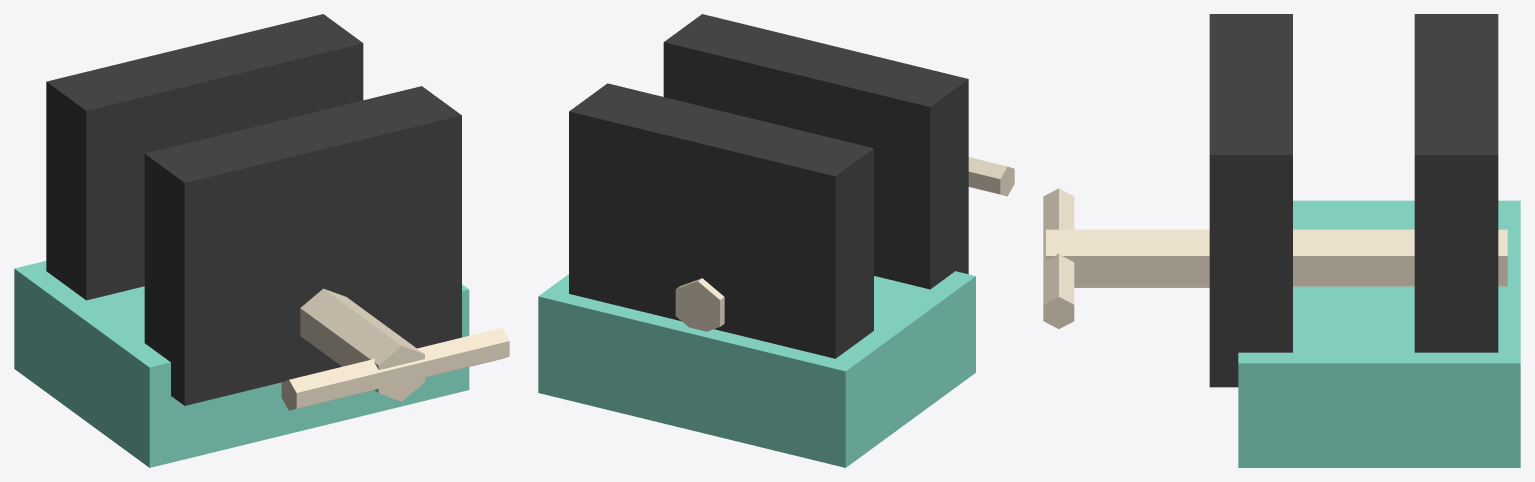
3 renders of one model, left to right at view 1: azimuth 30°, elevation 25°; view 2: azimuth 150°, elevation 25°; view 3: azimuth 270°, elevation 25°, orthographic. The views are drawn at different scales.
Visible parts, largest first — view 1: Moving jaw, Fixed jaw, Base, Handle, Lead screw; view 2: Fixed jaw, Base, Moving jaw, Lead screw, Handle; view 3: Base, Moving jaw, Fixed jaw, Lead screw, Handle.
Boxes of the visible parts, <box> form: Moving jaw: <box>144,86,461,405</box>; Fixed jaw: <box>46,14,363,300</box>; Base: <box>14,261,469,467</box>; Handle: <box>281,328,509,410</box>; Lead screw: <box>300,288,424,401</box>; Fixed jaw: <box>569,83,873,358</box>; Base: <box>538,271,975,467</box>; Moving jaw: <box>663,14,968,289</box>; Lead screw: <box>675,278,724,331</box>; Handle: <box>968,157,1014,196</box>; Base: <box>1238,200,1520,467</box>; Moving jaw: <box>1209,14,1292,387</box>; Fixed jaw: <box>1414,14,1498,352</box>; Lead screw: <box>1046,229,1507,287</box>; Handle: <box>1043,188,1074,328</box>.
Size of the model in its own units: 0.3 by 0.26 by 0.3721.
1 material, 1 textured.
